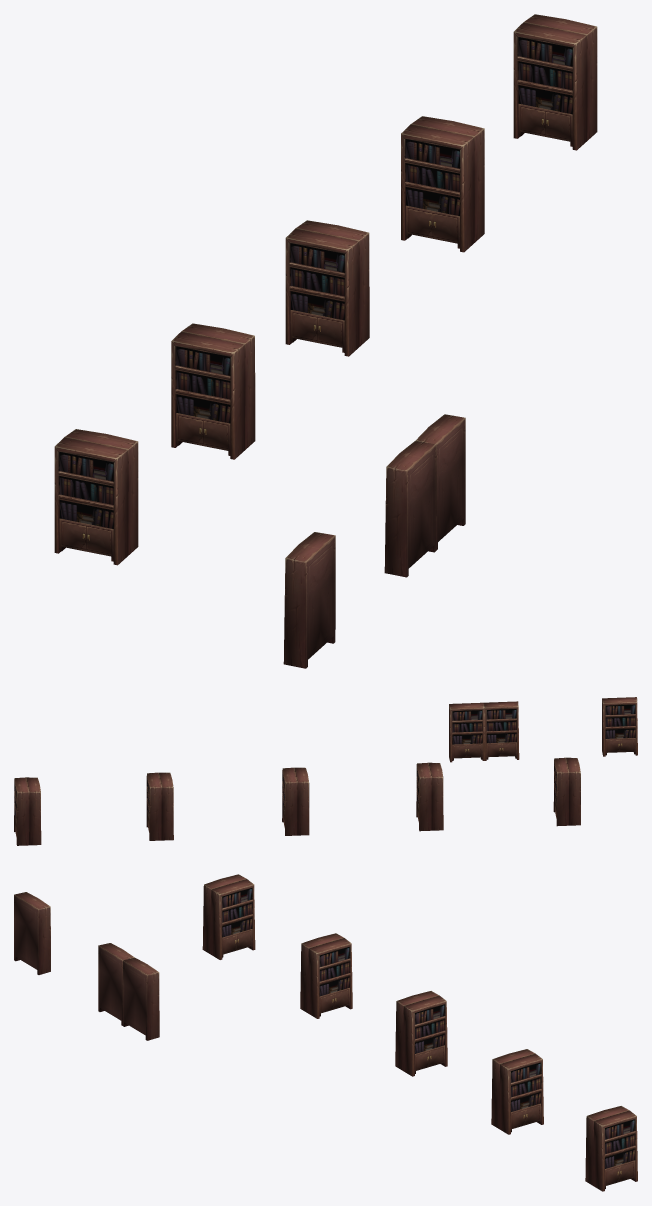
File: wujian13.fbx
3 views of the same model, one above another, from view 1: azimuth 30°, elevation 25°; view 2: azimuth 150°, elevation 25°; view 3: azimuth 270°, elevation 25° (orthographic). The views are drawn at different scales.
Parts seen in each view (by area): view 1: wujian13; view 2: wujian13; view 3: wujian13.
Boxes of the visible parts, x1=… form: wujian13: x1=54, y1=14, x2=597, y2=668; wujian13: x1=14, y1=697, x2=637, y2=845; wujian13: x1=14, y1=874, x2=637, y2=1191.
Bounding box in the file's own units: 3229 × 392 × 3375.
1 material, 1 textured.
